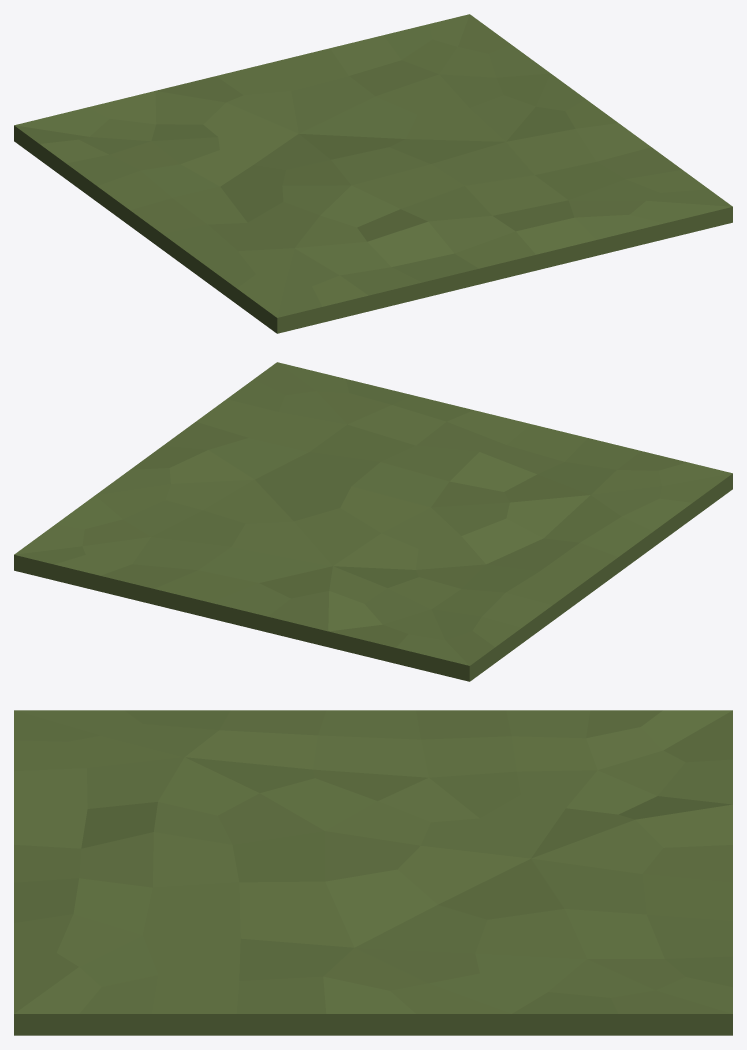
File: victorian_grass_1.fbx
3 renders of one model, top to bottom at view 1: azimuth 30°, elevation 25°; view 2: azimuth 150°, elevation 25°; view 3: azimuth 270°, elevation 25°, orthographic. The views are drawn at different scales.
Visible parts, largest first — view 1: Cube.254; view 2: Cube.254; view 3: Cube.254.
Part boxes in pixels (left/top/right/bottom): Cube.254: left=14, top=14, right=732, bottom=333; Cube.254: left=14, top=362, right=732, bottom=681; Cube.254: left=14, top=710, right=732, bottom=1035.
Bounding box in the file's own units: 300 × 16.01 × 300.
